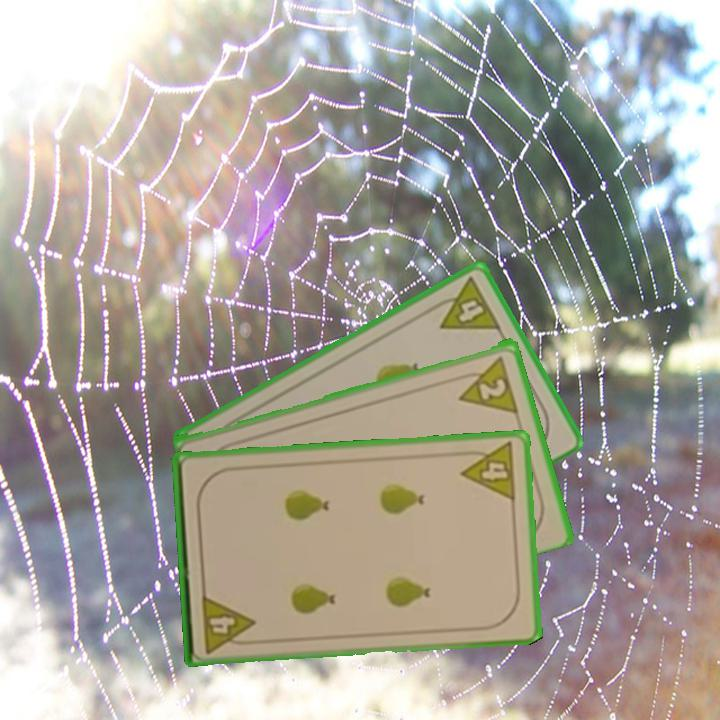2p: (451, 352, 521, 415)
4p: (426, 273, 504, 333), (457, 439, 519, 504), (198, 591, 258, 656)
